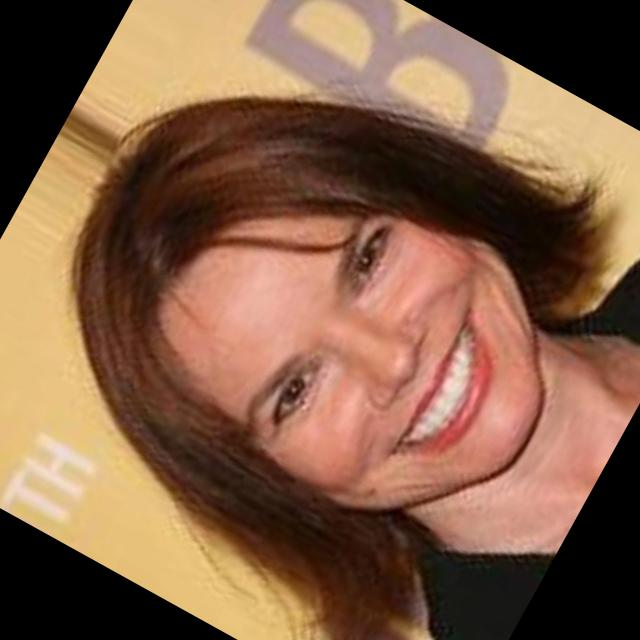bareface: (96, 103, 592, 567)
